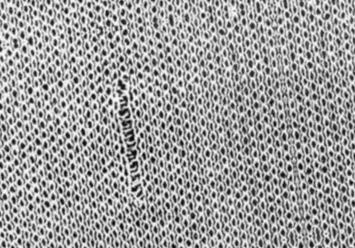slub: (114, 77, 148, 201)
